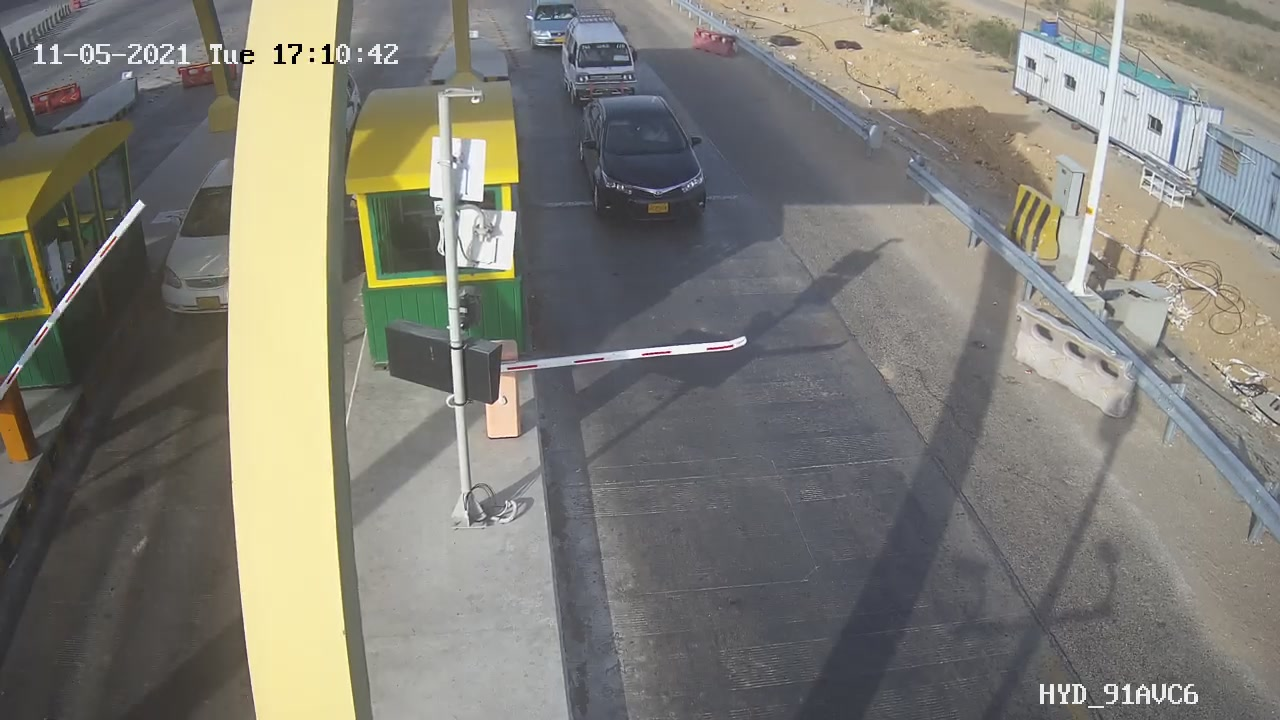F1: (563, 83, 733, 246), (544, 4, 657, 118)
